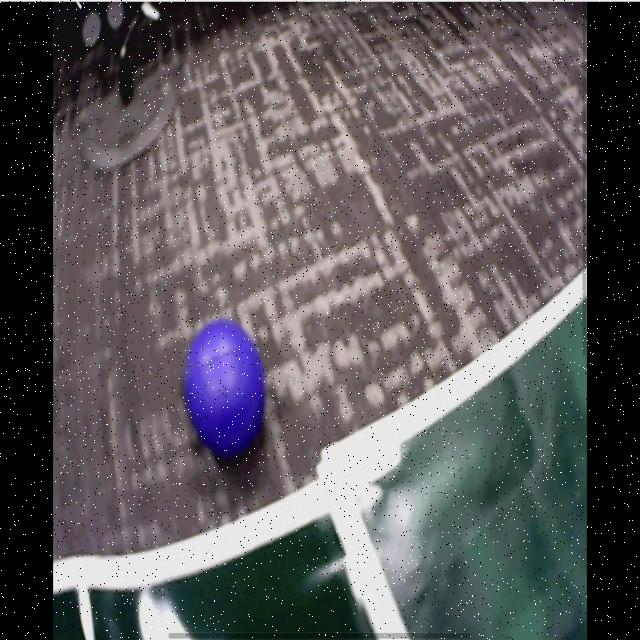ball: (184, 322, 268, 455)
